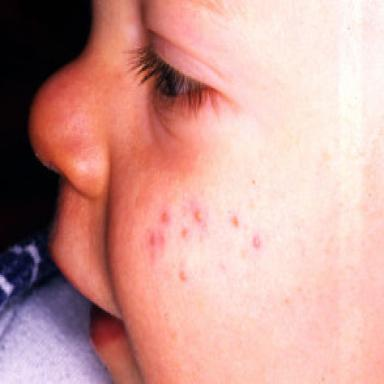acne: (194, 210, 202, 222), (179, 270, 187, 281), (161, 213, 169, 224), (253, 236, 260, 248), (149, 232, 155, 245), (232, 216, 239, 227), (181, 227, 187, 238), (160, 234, 164, 244)
